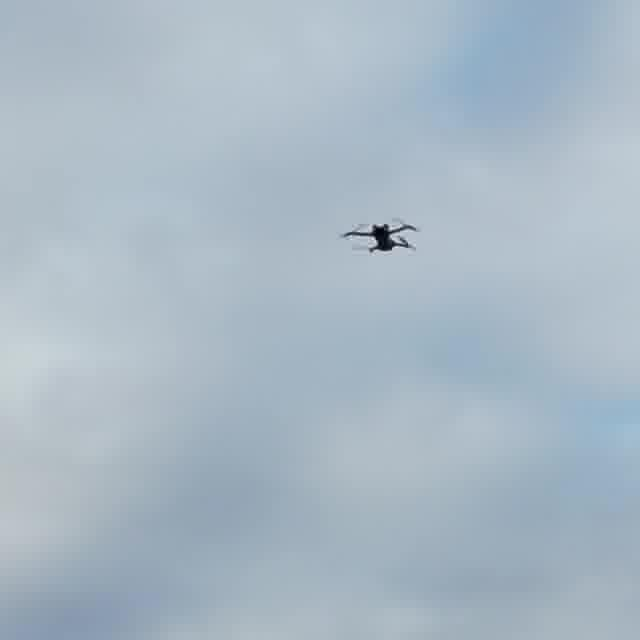Drohne: (342, 223, 418, 252)
